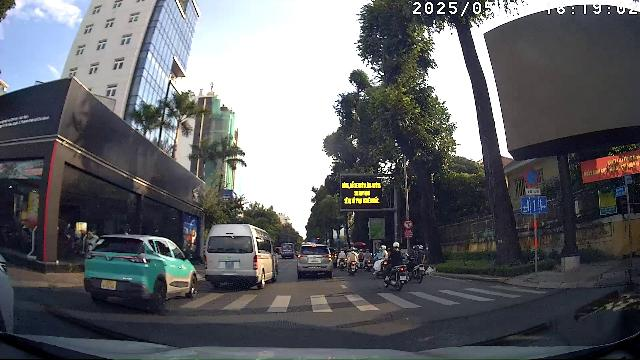131a-cam-do-xe: (524, 167, 540, 186)
137-cam-re-trai-va-re-phai: (403, 219, 412, 229)
